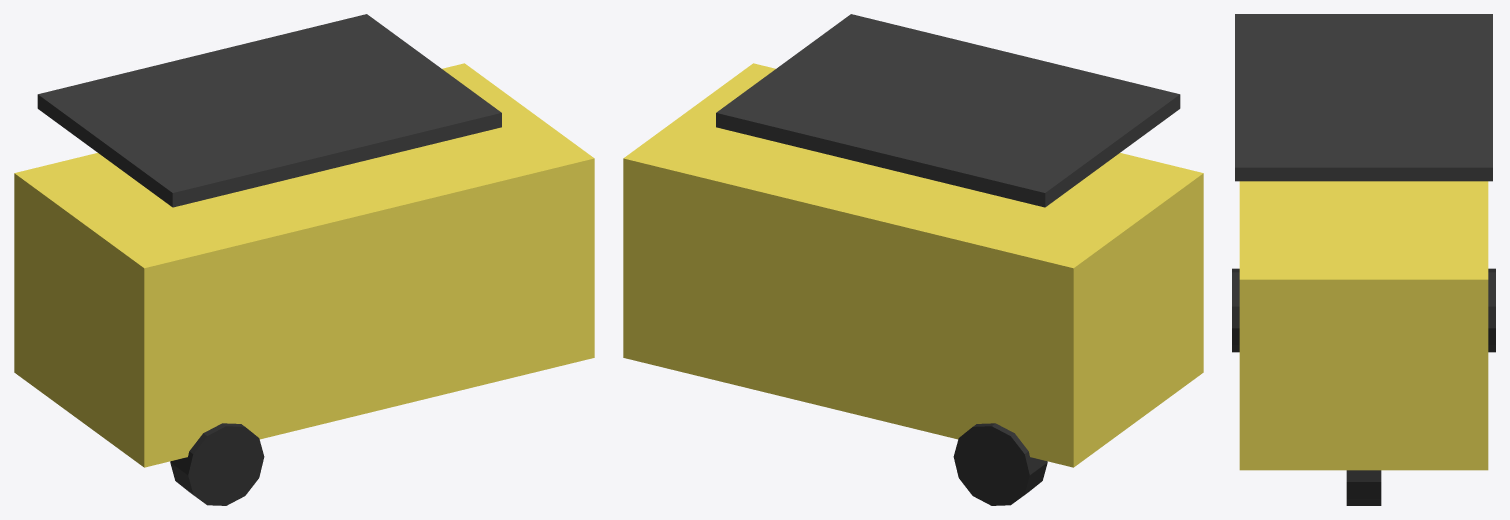
File: Auto_01.fbx
3 renders of one model, left to right at view 1: azimuth 30°, elevation 25°; view 2: azimuth 150°, elevation 25°; view 3: azimuth 270°, elevation 25°, orthographic. The views are drawn at different scales.
Parts seen in each view (by area): view 1: Body, Roof, Wheel_RearRight; view 2: Body, Roof, Wheel_RearLeft; view 3: Body, Roof, Wheel_Front, Wheel_RearLeft, Wheel_RearRight.
Boxes of the visible parts, x1=… form: Body: x1=14, y1=63, x2=594, y2=467; Roof: x1=37, y1=14, x2=501, y2=207; Wheel_RearRight: x1=170, y1=423, x2=264, y2=505; Body: x1=623, y1=63, x2=1203, y2=467; Roof: x1=716, y1=14, x2=1180, y2=207; Wheel_RearLeft: x1=953, y1=423, x2=1047, y2=505; Body: x1=1239, y1=181, x2=1488, y2=470; Roof: x1=1235, y1=14, x2=1492, y2=181; Wheel_Front: x1=1346, y1=470, x2=1381, y2=505; Wheel_RearLeft: x1=1488, y1=268, x2=1495, y2=352; Wheel_RearRight: x1=1232, y1=268, x2=1239, y2=352.
Size of the model in its own units: 2.6 by 1.79 by 1.38.
